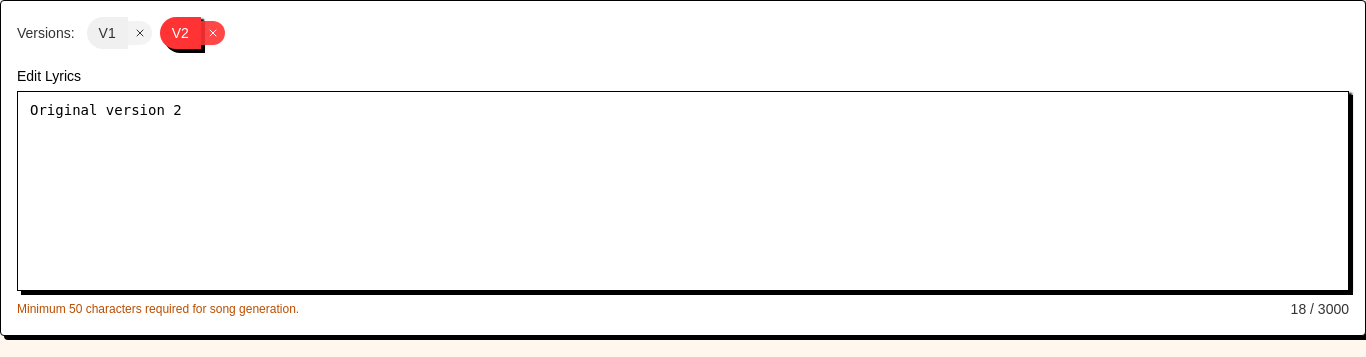
it: Version Switching Unit Tests › Edit preservation › should show edited content when switching back to edited version
// Currently on version 2, edit it
Step 1. Replace the text in the text box with "Modified version 2 content" → (683, 191), box [17,91,1349,291]
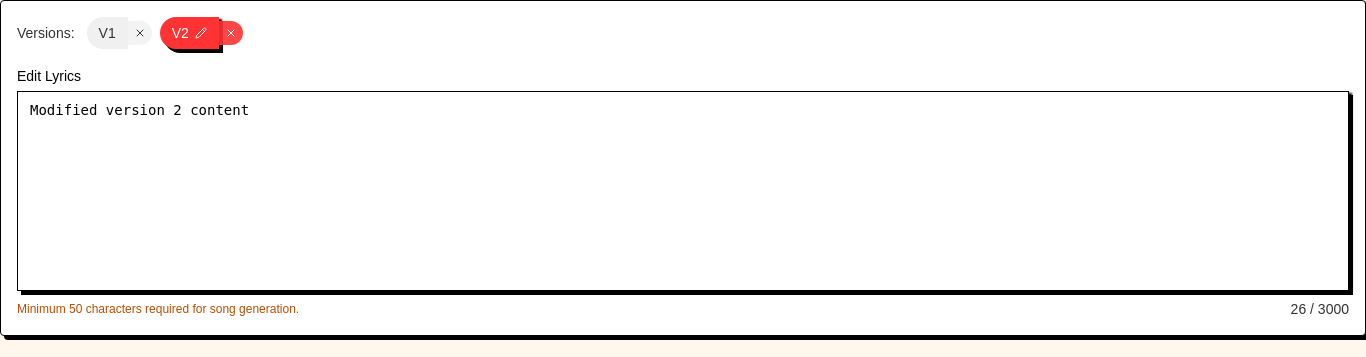
// Switch to version 1
Step 2. Click the tab "V1" → (107, 33), box [87,17,128,49]
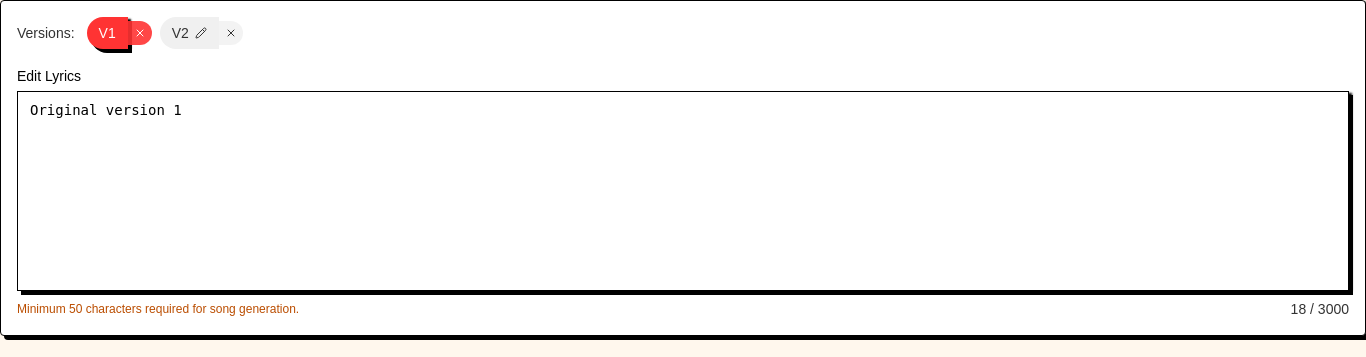
// Switch back to version 2
Step 3. Click the tab "V2" → (189, 33), box [160,17,219,49]
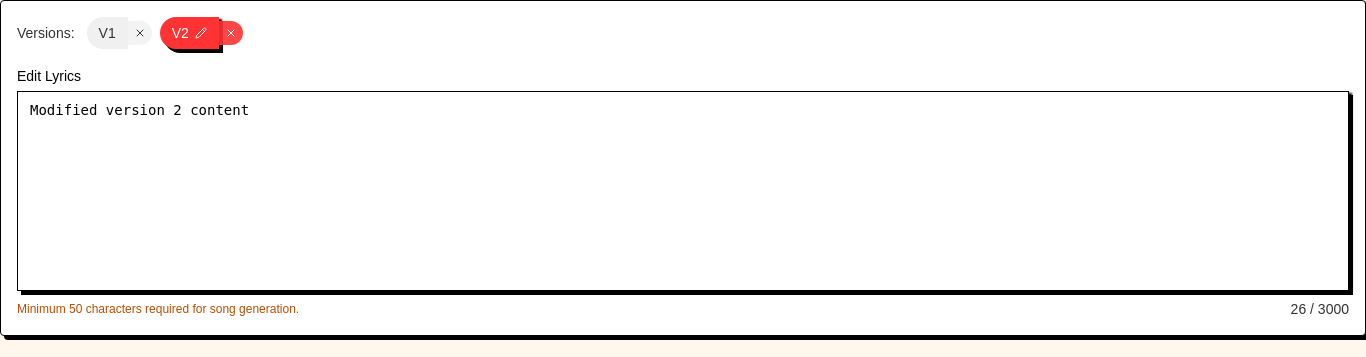
Now the text box holds "Modified version 2 content", box [17,91,1349,291]
